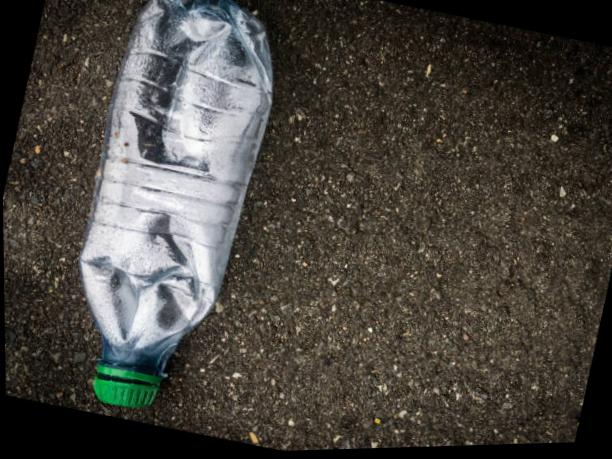plastic: (37, 0, 301, 429)
